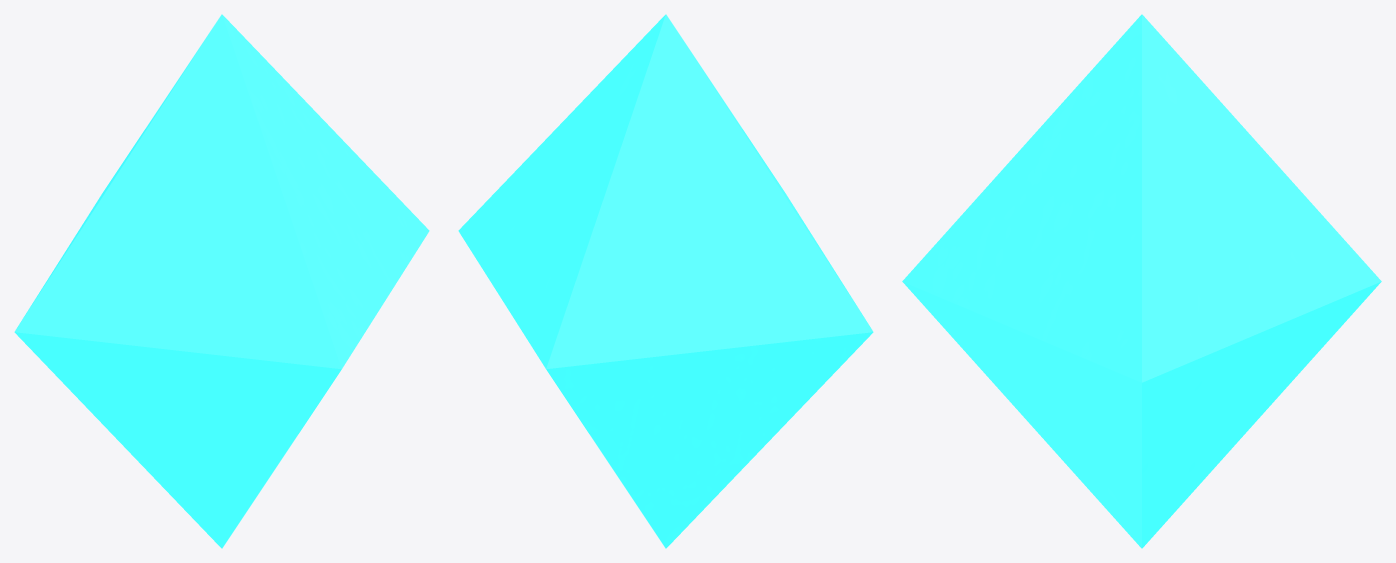
Rendered from tier-t3.glb.
3 views of the same model, side by side, from view 1: azimuth 30°, elevation 25°; view 2: azimuth 150°, elevation 25°; view 3: azimuth 270°, elevation 25° (orthographic).
Visible parts, largest first — view 1: gem-t3-void-forged-top, gem-t3-void-forged-bottom; view 2: gem-t3-void-forged-top, gem-t3-void-forged-bottom; view 3: gem-t3-void-forged-top, gem-t3-void-forged-bottom.
Boxes of the visible parts, x1,y1,x2,y2 form: gem-t3-void-forged-top: (14,14,429,369); gem-t3-void-forged-bottom: (15,332,341,548); gem-t3-void-forged-top: (458,14,873,369); gem-t3-void-forged-bottom: (546,332,872,548); gem-t3-void-forged-top: (902,14,1381,382); gem-t3-void-forged-bottom: (902,281,1381,548).
Bounding box in the file's own units: 0.26 × 0.32 × 0.26.
1 material, 1 textured.
